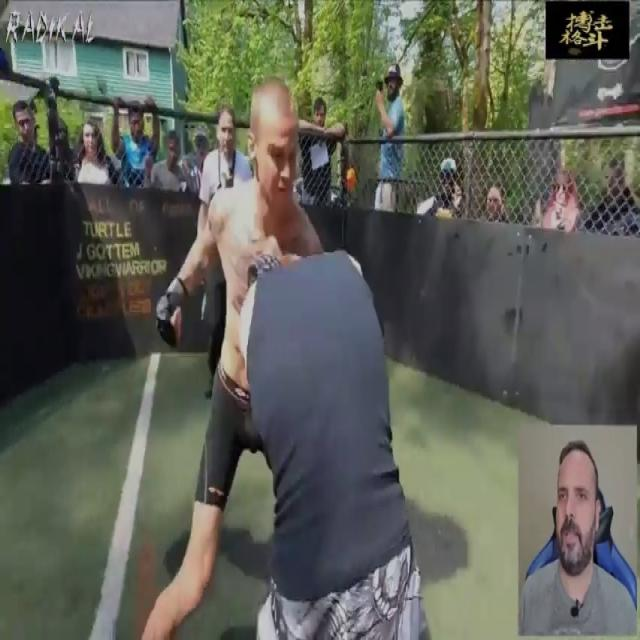fight: (130, 74, 437, 639)
non-fight: (518, 433, 637, 638), (295, 94, 346, 210), (152, 132, 185, 193)
